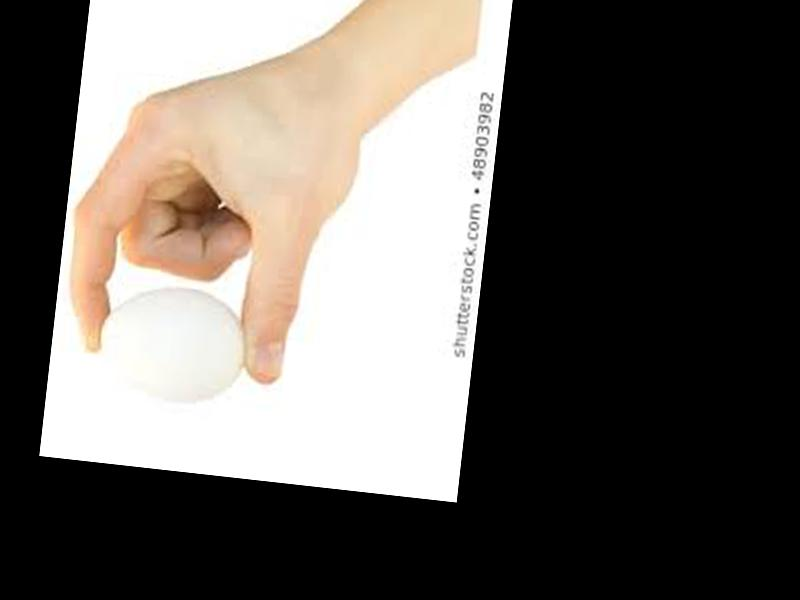Eggs: (95, 279, 253, 406)
